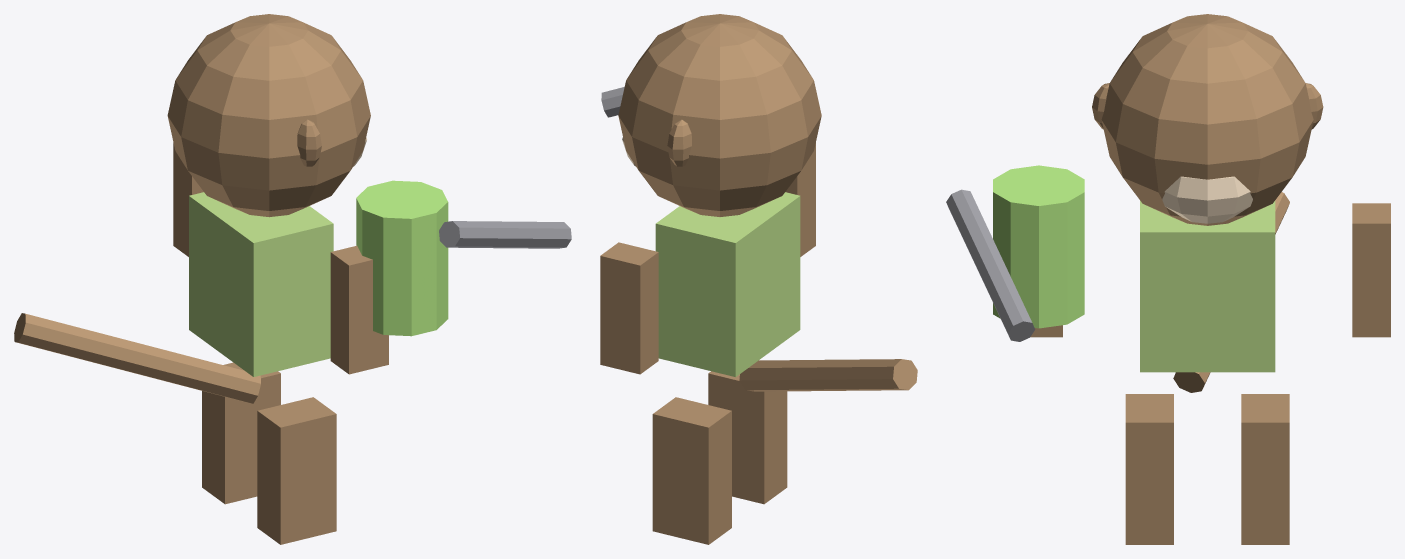
The model's file is tower_glue.glb.
The picture shows the model from 3 angles, left to right: view 1: azimuth 30°, elevation 25°; view 2: azimuth 150°, elevation 25°; view 3: azimuth 270°, elevation 25°; orthographic projection. The views are drawn at different scales.
Parts seen in each view (by area): view 1: tower_glue; view 2: tower_glue; view 3: tower_glue.
Part boxes in pixels (bbox=[...]): tower_glue: bbox=[14, 14, 571, 544]; tower_glue: bbox=[600, 14, 917, 544]; tower_glue: bbox=[946, 14, 1390, 544].
Bounding box in the file's own units: 1.58 × 1.7 × 1.35.
